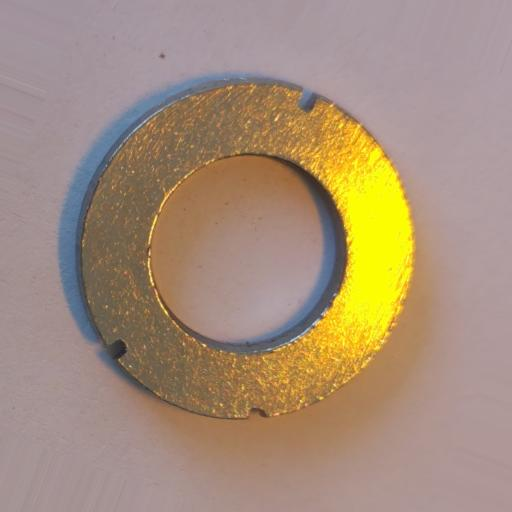burr: (107, 338, 131, 363), (296, 90, 317, 112), (247, 407, 268, 420)
